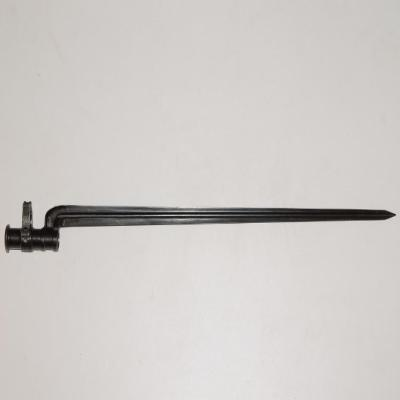weapon: (5, 203, 396, 254)
